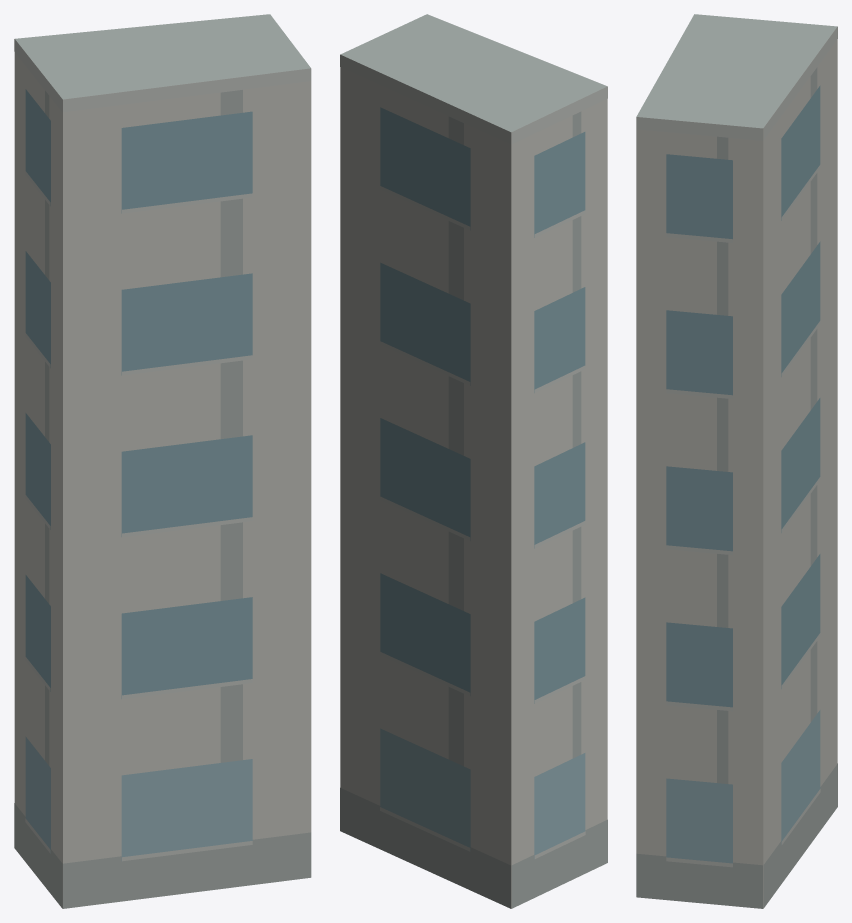
File: survey-upis-32737919.glb
The picture shows the model from 3 angles, left to right: view 1: azimuth 30°, elevation 25°; view 2: azimuth 150°, elevation 25°; view 3: azimuth 270°, elevation 25°; orthographic projection. The views are drawn at different scales.
Parts seen in each view (by area): view 1: survey-upis-32737919.tmp; view 2: survey-upis-32737919.tmp; view 3: survey-upis-32737919.tmp.
Boxes of the visible parts, box(x1,y1,x2,y2) form: survey-upis-32737919.tmp: box(14, 14, 311, 908); survey-upis-32737919.tmp: box(340, 14, 607, 908); survey-upis-32737919.tmp: box(636, 14, 837, 908).
Size of the model in its own units: 4.8 by 15.25 by 3.58.
